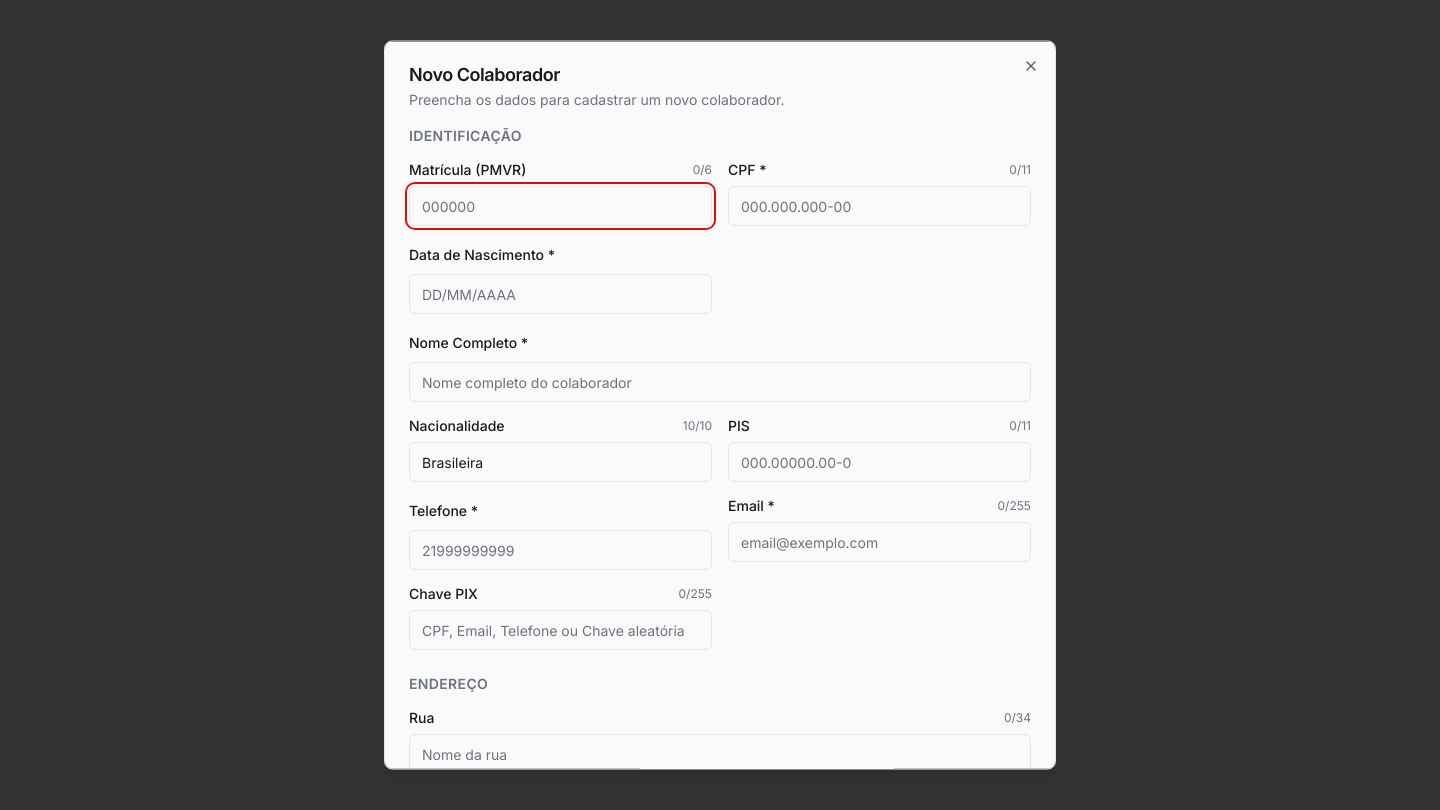
Test: ColaboradorDialog (interação) › validação › recusa CPF incompleto em vez de fabricar outro
Type "Beltrana Silva" into the field labelled "Nome Completo *".
click(720, 382); type("Beltrana Silva")  # box x1=409 y1=362 x2=1031 y2=402
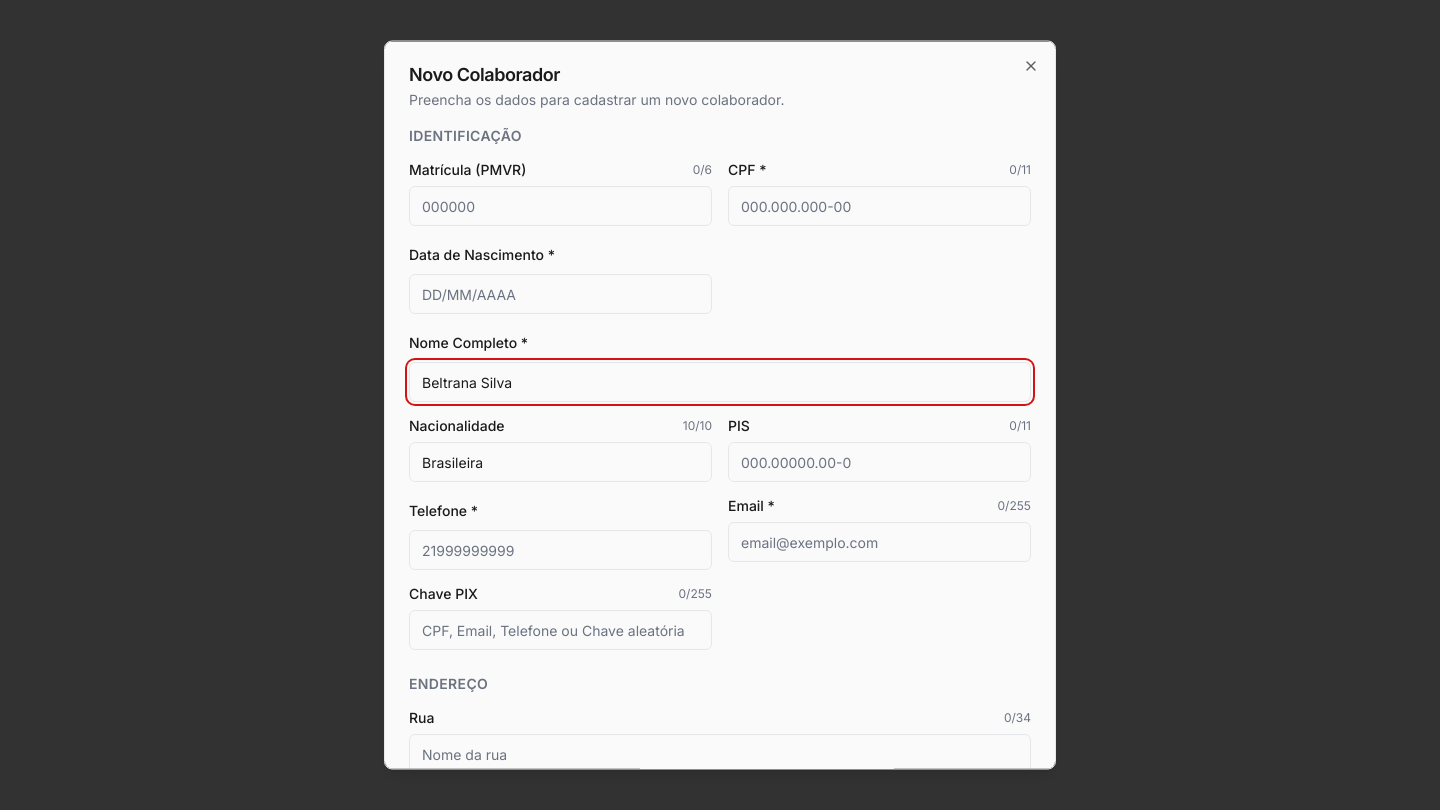
Type "123456" into the field labelled "CPF *".
click(880, 206); type("123456")  # box x1=728 y1=186 x2=1031 y2=226
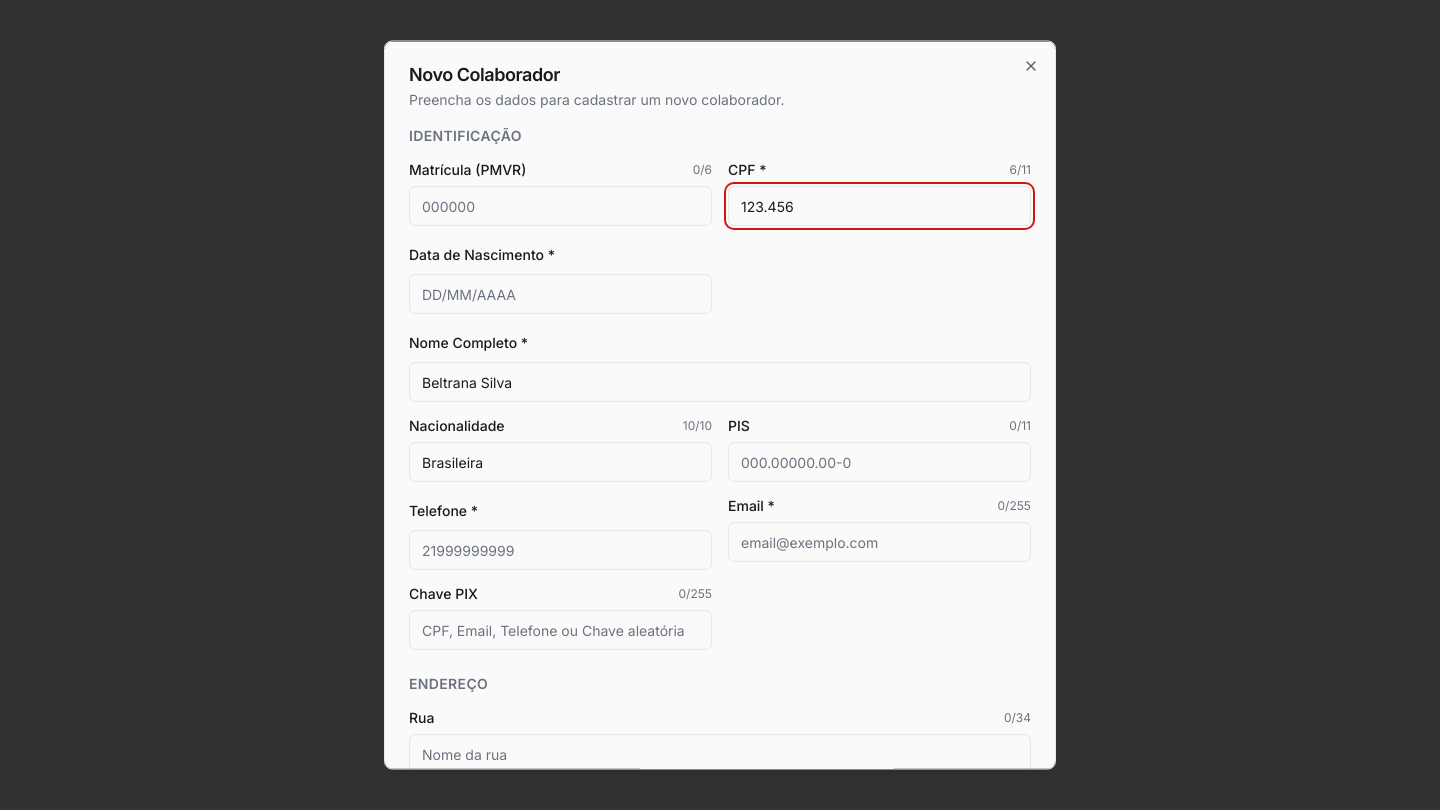
Type "20051990" into the field labelled "Data de Nascimento *".
click(560, 294); type("20051990")  # box x1=409 y1=274 x2=712 y2=314
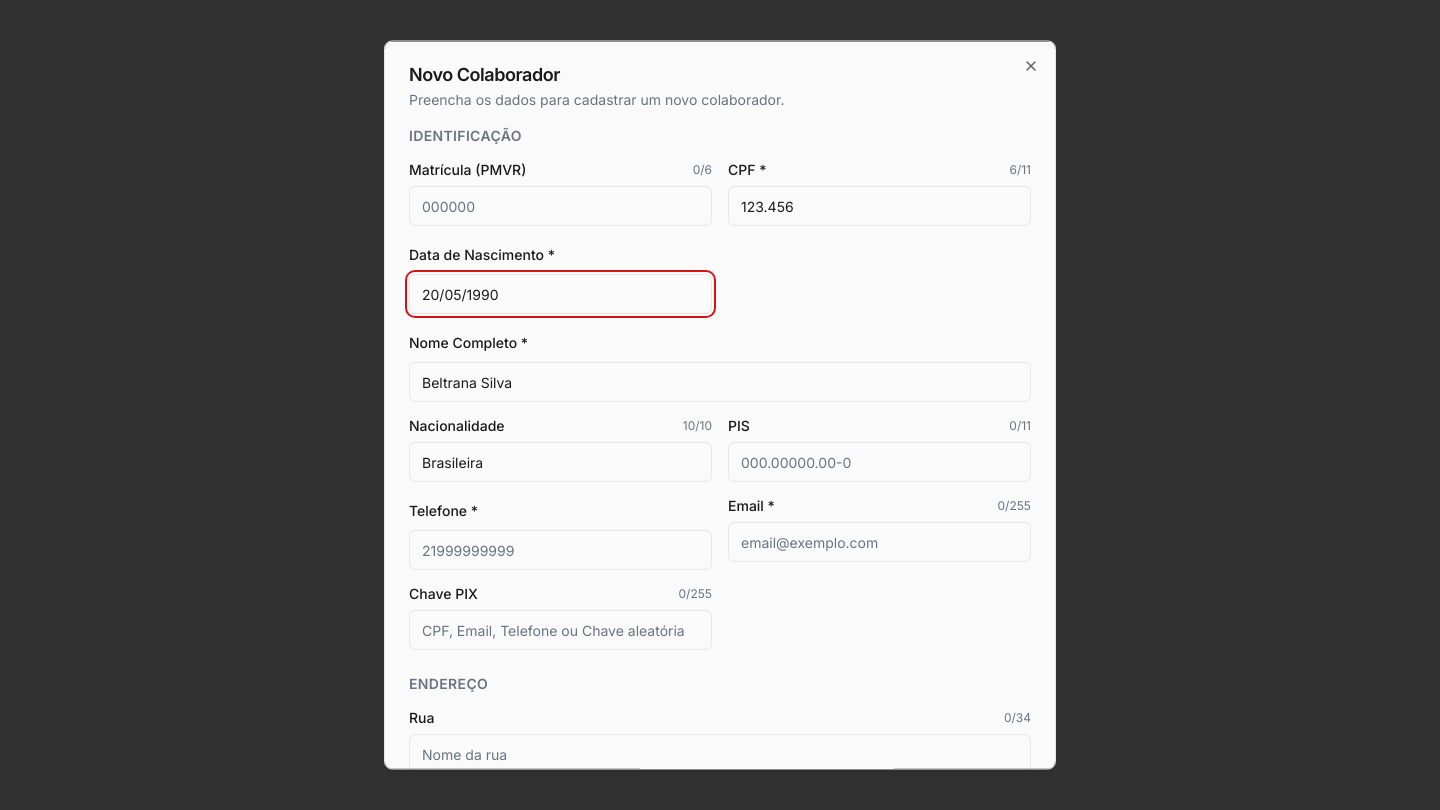
Type "24999998888" into the field labelled "Telefone *".
click(560, 550); type("24999998888")  # box x1=409 y1=530 x2=712 y2=570
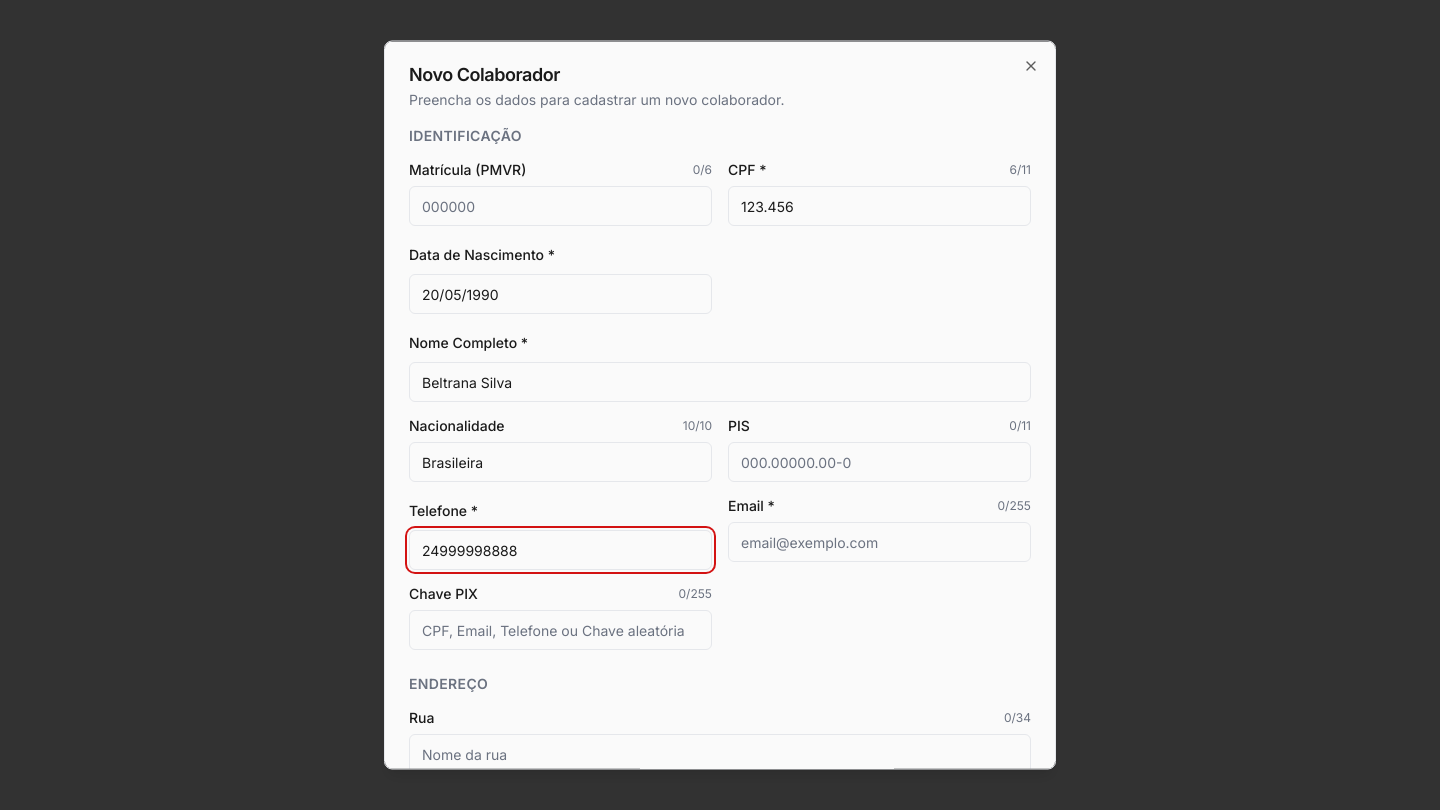
Type "nova@exemplo.com" into the field labelled "Email *".
click(880, 542); type("nova@exemplo.com")  # box x1=728 y1=522 x2=1031 y2=562
(page scrolled)
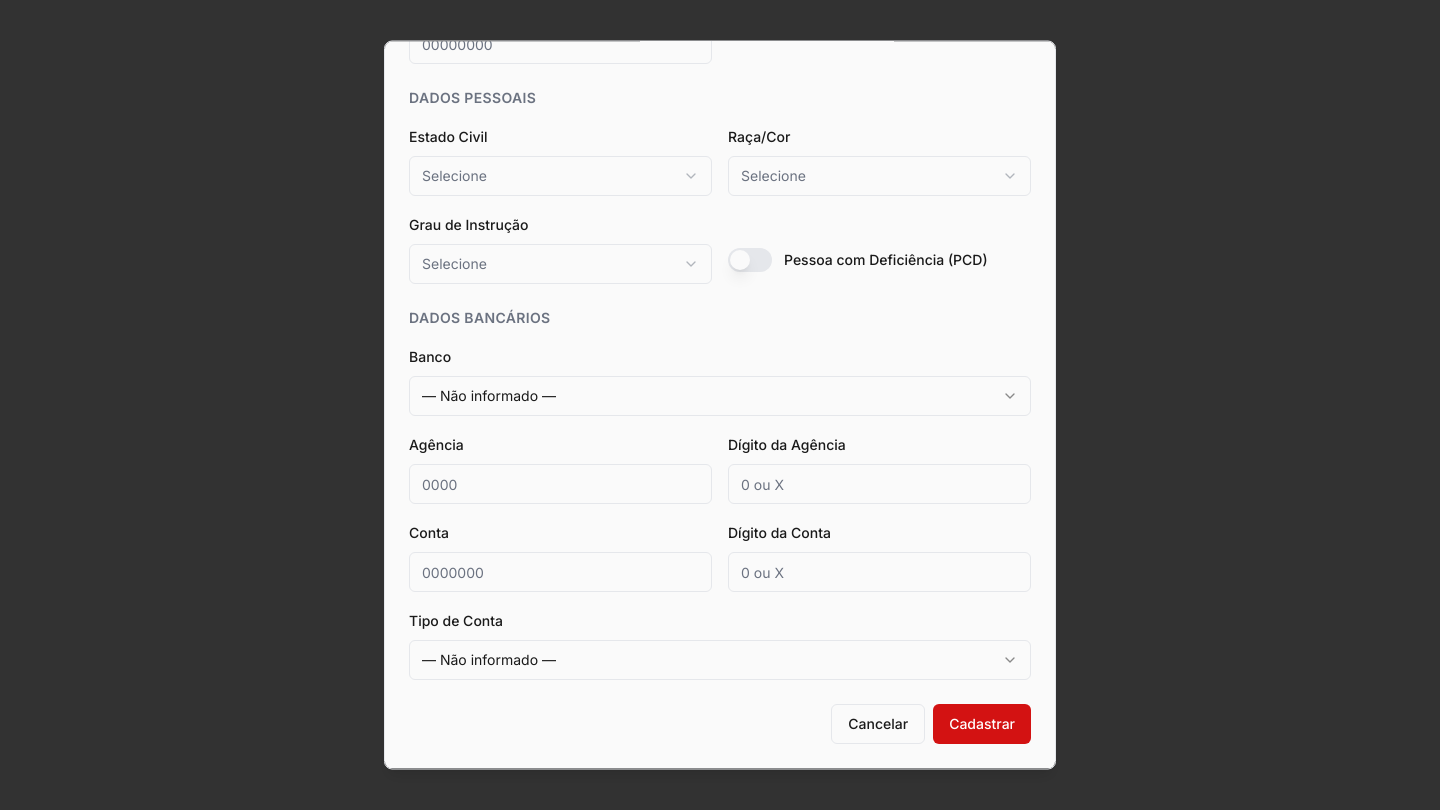
Click the button "Cadastrar".
click(982, 724)  # box x1=933 y1=704 x2=1031 y2=744
(page scrolled)
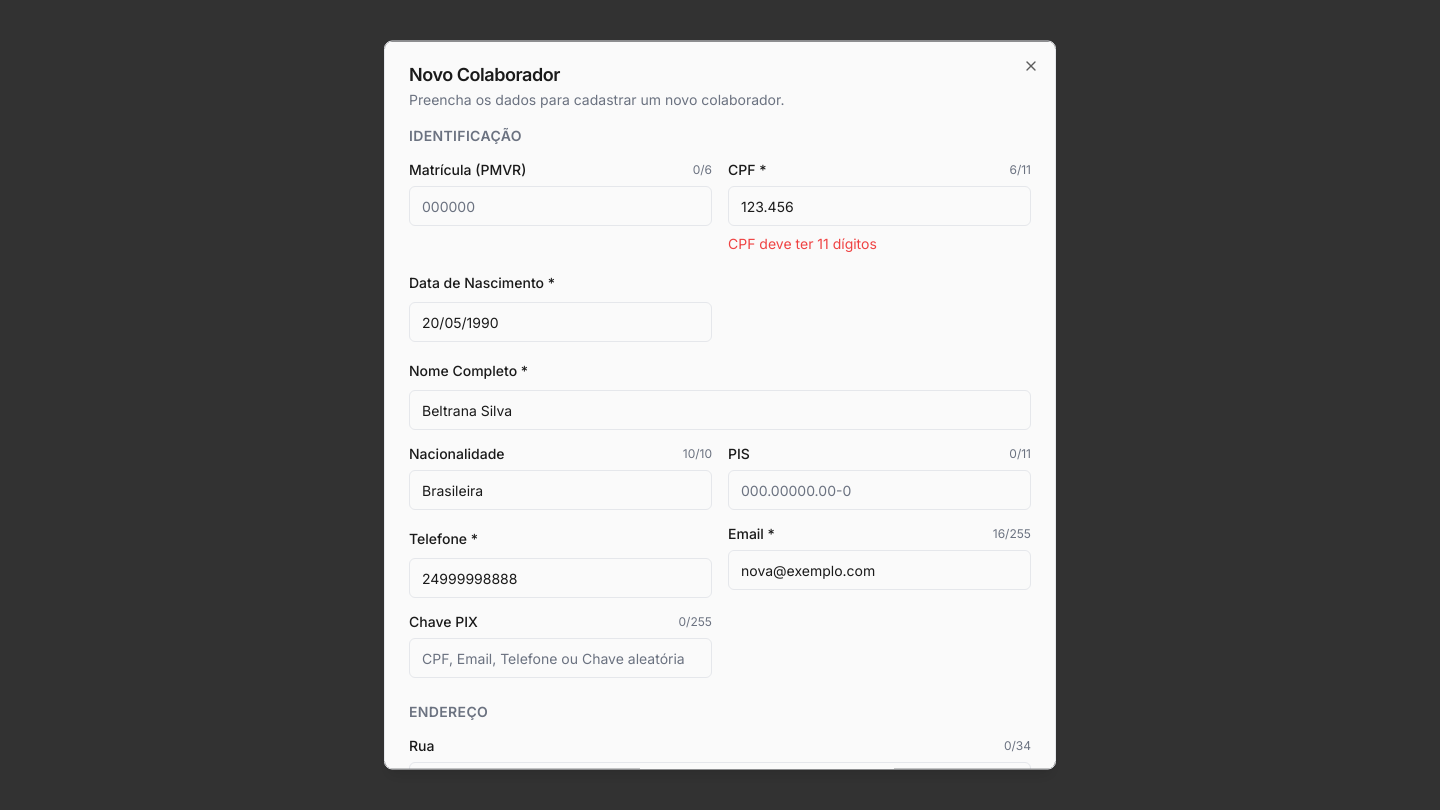
Expected: the text "CPF deve ter 11 dígitos" is shown, x1=728 y1=234 x2=877 y2=252
